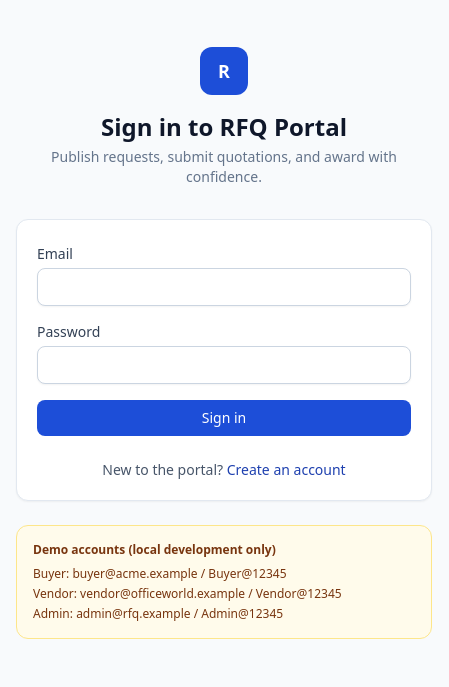
Test: LoginPage › shows the server message when the credentials are wrong
In the field labelled "Email": (224, 287) x1=37 y1=268 x2=411 y2=306, type "buyer@acme.example"
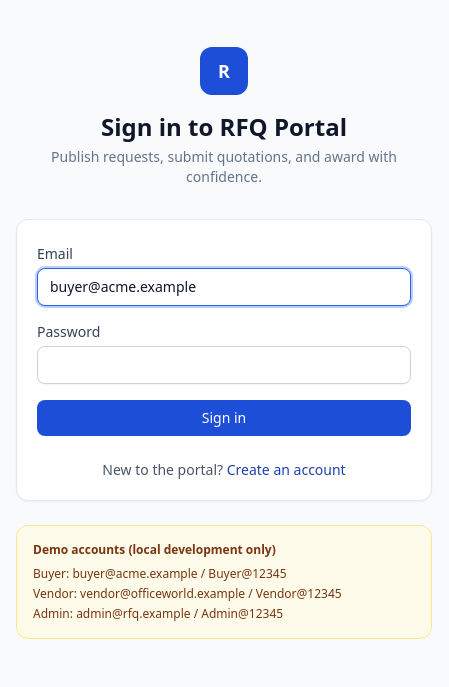
In the password field labelled "Password": (224, 365) x1=37 y1=346 x2=411 y2=384, type "wrong-password"
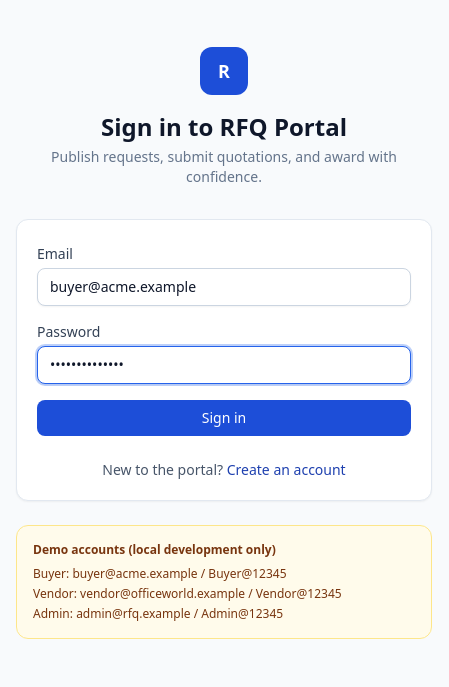
Click the button "Sign in": (224, 418) x1=37 y1=400 x2=411 y2=436
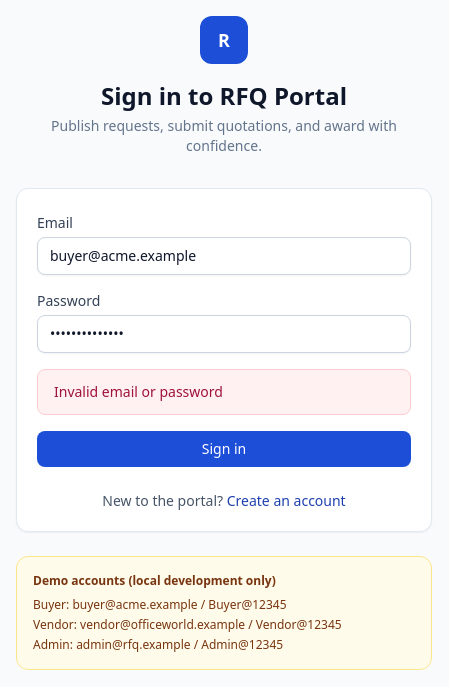
Result: the message reads "Invalid email or password" at x1=54 y1=382 x2=223 y2=401
